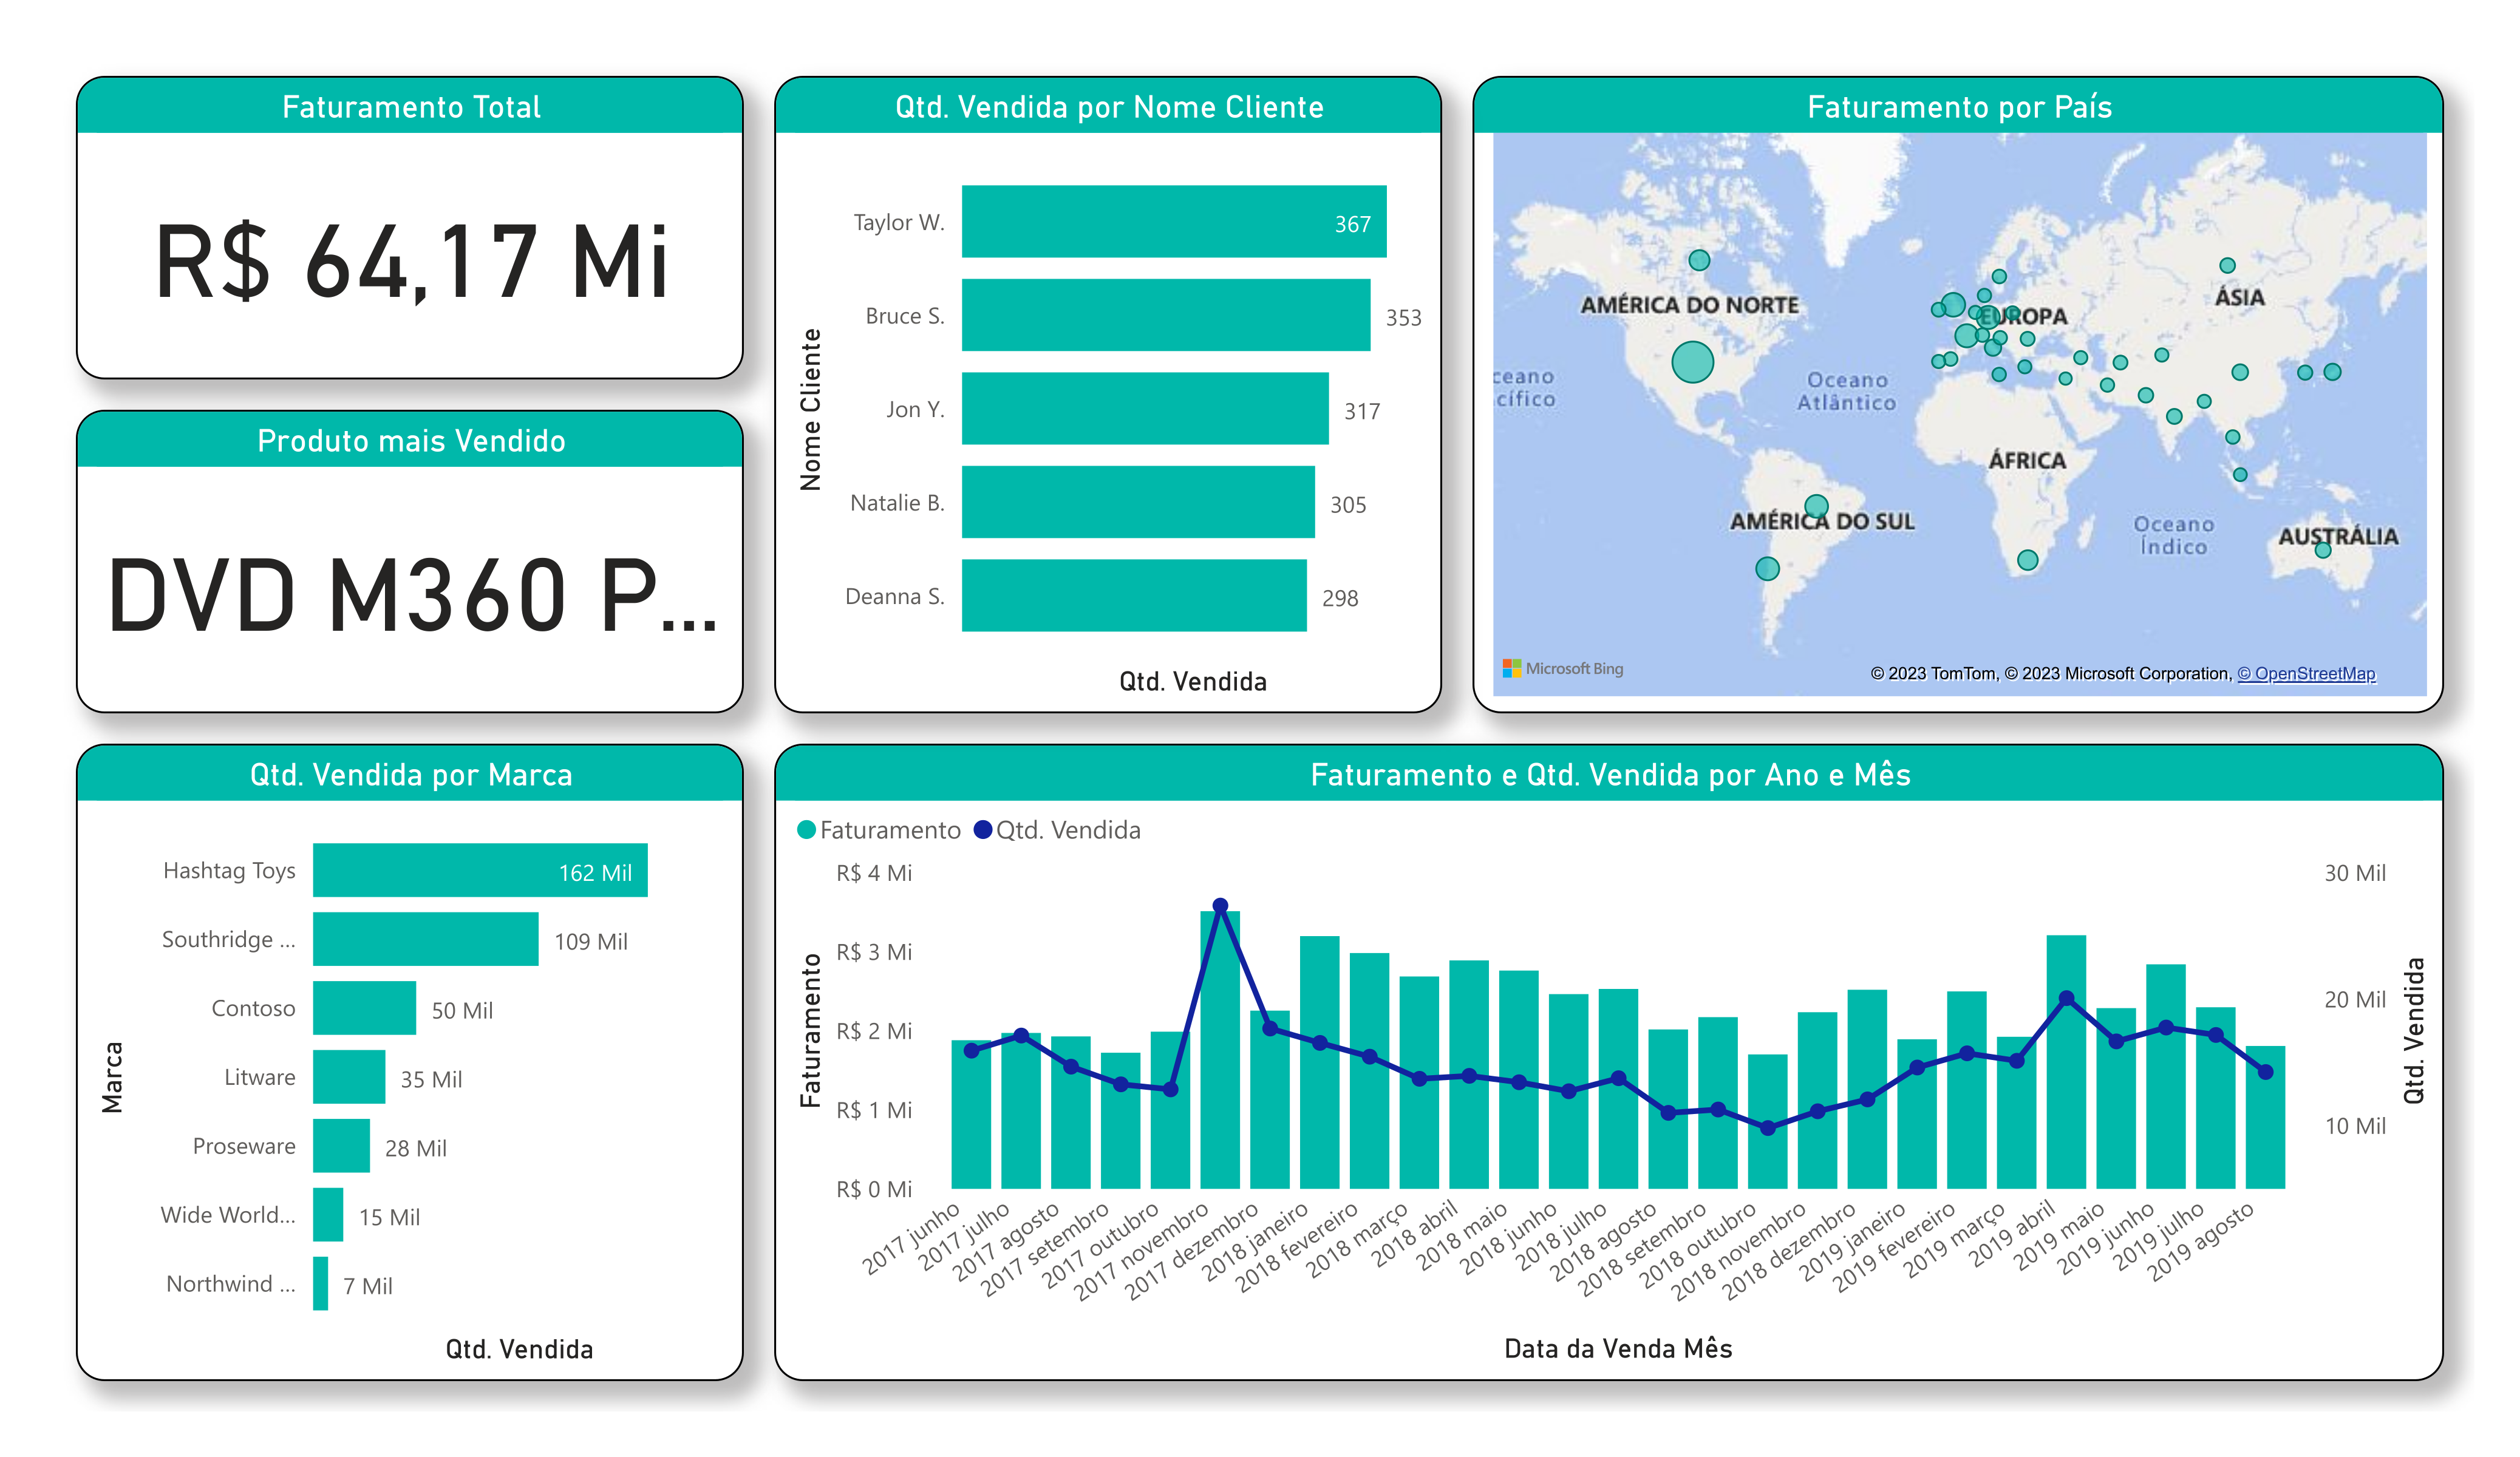

The dashboard page shown, as its layout file describes it:
{"tool":"powerbi","page":{"name":"Relatório de Vendas","canvas":[1280,720],"ordinal":0},"visuals":[{"type":"card","title":"Faturamento Total","fields":{"Values":["Sum(Base de Vendas.Faturamento)"]},"box":[16,16,352,160],"z":0},{"type":"card","title":"Produto mais Vendido","fields":{"Values":["Min(Base de Vendas.Produto)"]},"box":[16,192,352,160],"z":1000},{"type":"barChart","fields":{"Y":["Sum(Base de Vendas.Qtd. Vendida)"],"Category":["Base de Vendas.Marca"]},"box":[16,368,352,336],"z":2000},{"type":"lineStackedColumnComboChart","fields":{"Y":["Sum(Base de Vendas.Faturamento)"],"Y2":["Sum(Base de Vendas.Qtd. Vendida)"],"Category":["Base de Vendas.Data da Venda.Variation.Hierarquia de datas.Ano","Base de Vendas.Data da Venda.Variation.Hierarquia de datas.Mês"]},"box":[384,368,880,336],"z":3000},{"type":"map","fields":{"Category":["Base de Vendas.País"],"Size":["Sum(Base de Vendas.Faturamento)"]},"box":[752,16,512,336],"z":3001},{"type":"barChart","fields":{"Category":["Base de Vendas.Nome Cliente"],"Y":["Sum(Base de Vendas.Qtd. Vendida)"]},"box":[384,16,352,336],"z":3002}]}

Visuals, with their boxes in screenshot pixels (x1, y1, x2, y2):
"Faturamento Total" card: region(83, 76, 741, 375)
"Produto mais Vendido" card: region(83, 406, 741, 705)
barChart - Sum(Base de Vendas.Qtd. Vendida) x Base de Vendas.Marca: region(83, 735, 741, 1364)
lineStackedColumnComboChart - Sum(Base de Vendas.Faturamento) x Sum(Base de Vendas.Qtd. Vendida): region(772, 735, 2420, 1364)
map - Base de Vendas.País x Sum(Base de Vendas.Faturamento): region(1461, 76, 2420, 705)
barChart - Base de Vendas.Nome Cliente x Sum(Base de Vendas.Qtd. Vendida): region(772, 76, 1431, 705)
